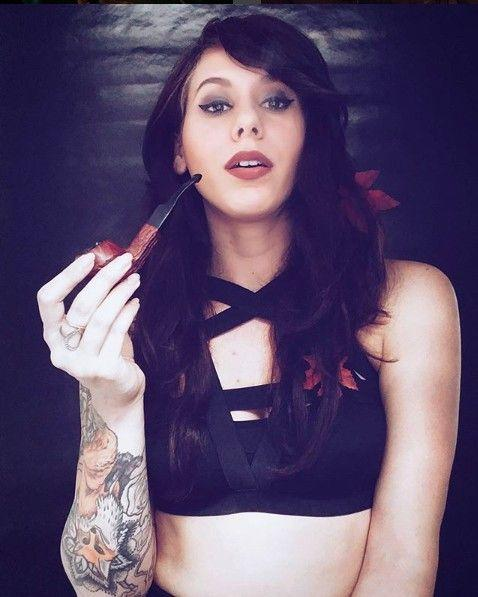trubka: (78, 174, 203, 282)
